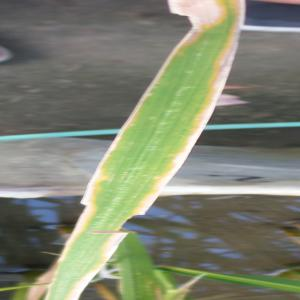Bacterial_Blight: (151, 1, 241, 171)
